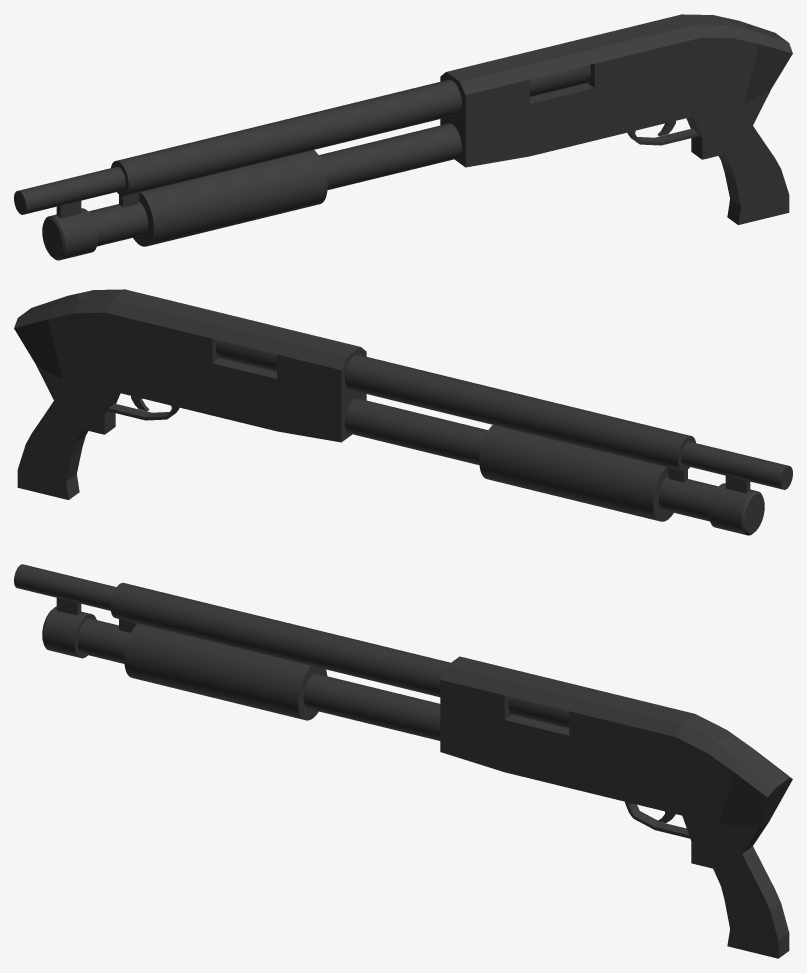
The model's file is shotgun_02.glb.
3 renders of one model, top to bottom at view 1: azimuth 30°, elevation 25°; view 2: azimuth 150°, elevation 25°; view 3: azimuth 330°, elevation 25°, orthographic.
Visible parts, largest first — view 1: Cube.002, Cube.001, Cylinder, Cylinder.001, Cube.004, Cylinder.003, Cylinder.004, Cylinder.005, Cube.007; view 2: Cube.002, Cube.001, Cylinder, Cylinder.001, Cube.004, Cylinder.003, Cylinder.004, Cylinder.005, Cube.007; view 3: Cube.002, Cube.001, Cylinder, Cylinder.001, Cube.004, Cylinder.003, Cylinder.004, Cylinder.005, Cube.007.
Part boxes in pixels (x1,y1,x2,y2): Cube.002: (589,14,792,136); Cube.001: (440,37,608,167); Cylinder: (111,65,590,196); Cylinder.001: (133,150,327,246); Cube.004: (686,91,789,224); Cylinder.003: (88,123,461,246); Cylinder.004: (14,166,125,214); Cylinder.005: (42,208,97,260); Cube.007: (627,128,699,145); Cube.002: (14,289,217,411); Cube.001: (198,312,366,442); Cylinder: (216,340,695,471); Cylinder.001: (479,425,673,521); Cube.004: (17,366,120,499); Cylinder.003: (345,398,718,521); Cylinder.004: (681,441,792,489); Cylinder.005: (709,483,764,535); Cube.007: (107,403,179,420); Cube.002: (583,691,792,827); Cube.001: (440,656,602,791); Cylinder: (110,583,569,728); Cylinder.001: (124,623,327,720); Cube.004: (682,815,789,958); Cylinder.003: (77,618,440,740); Cylinder.004: (14,564,116,610); Cylinder.005: (42,606,96,658); Cube.007: (625,801,690,838).
Bounding box in the file's own units: 29.64 × 7.88 × 1.98.
Materials: 1 (1 with a texture image).
